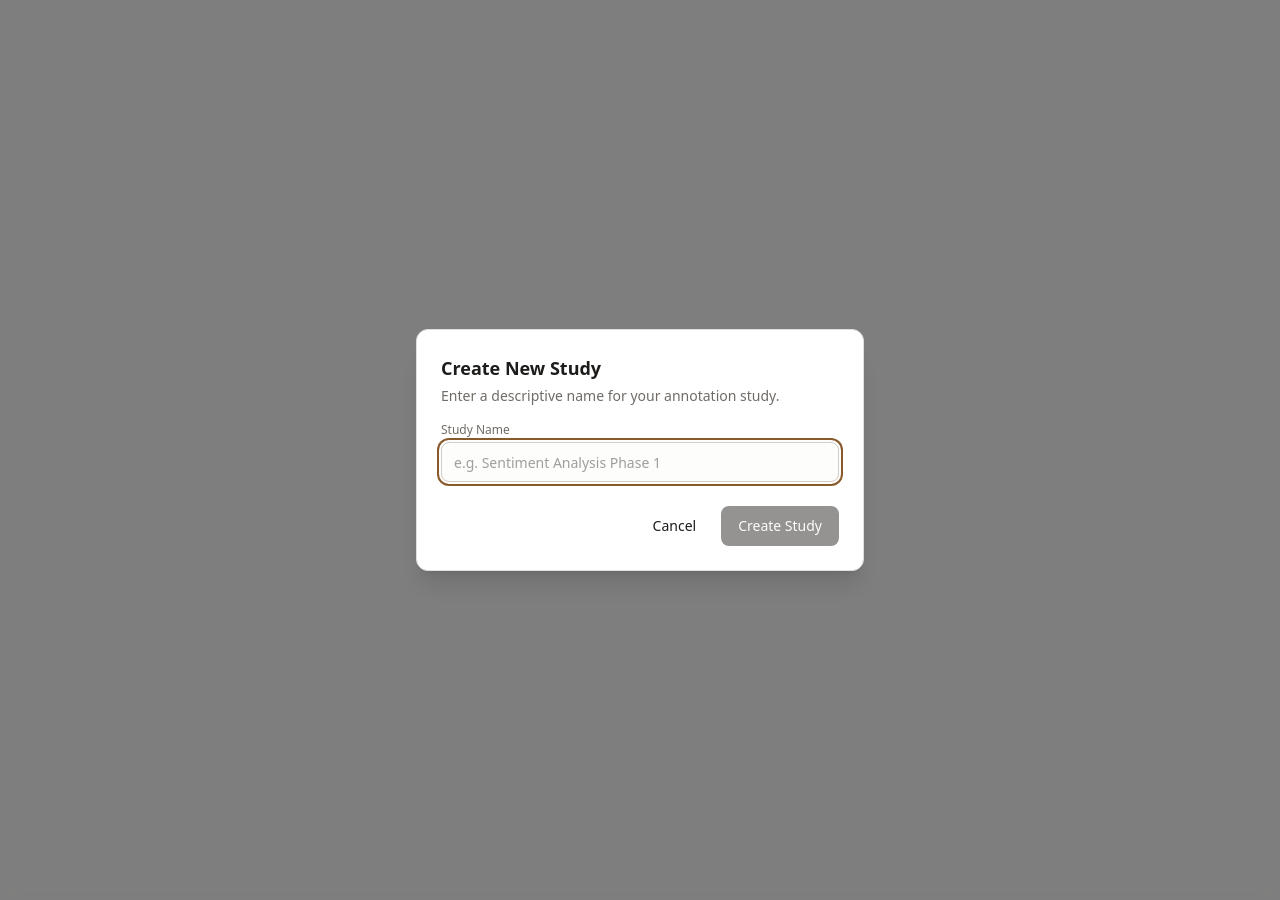
Test case: making a study › asks for its name only: who codes is chosen in its design
Later steps or results of the test are not shown.
Expected: the button "Create Study" is disabled, x1=721 y1=506 x2=839 y2=546
Type "Coding news" into the field with placeholder "e.g. Sentiment Analysis Phase 1" at (640, 462), box x1=441 y1=442 x2=839 y2=482
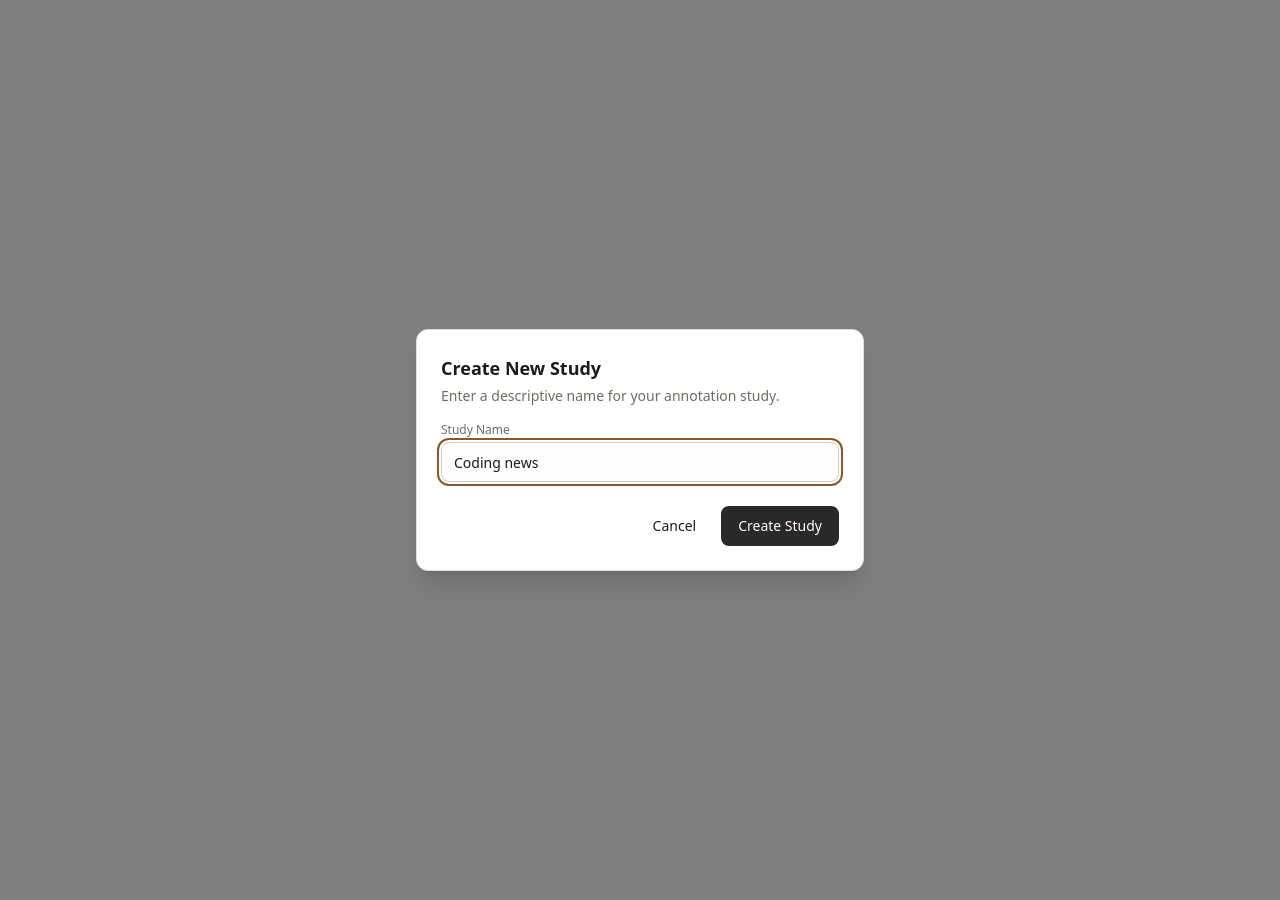
Now the button "Create Study" is enabled, box x1=721 y1=506 x2=839 y2=546
